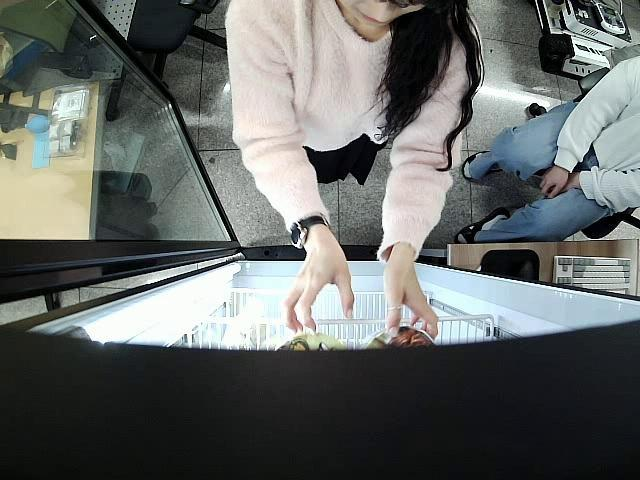03_chapagetti_L: (277, 330, 352, 355), (364, 326, 435, 352)
